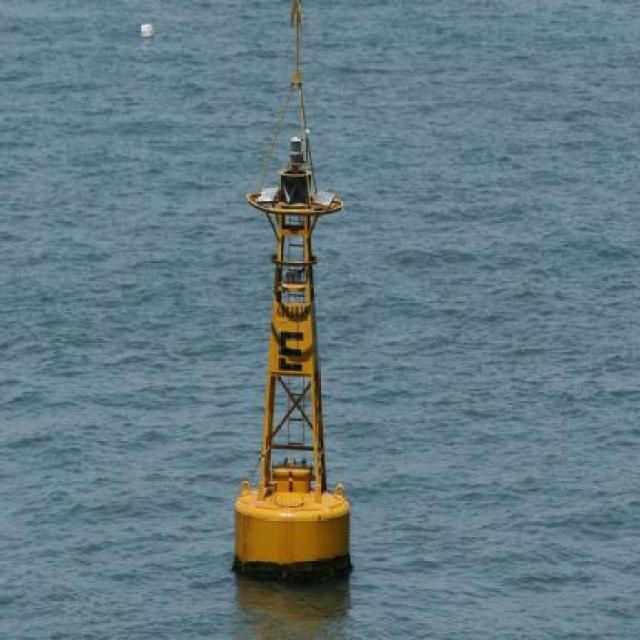a: (229, 1, 369, 595), (134, 17, 162, 57)
